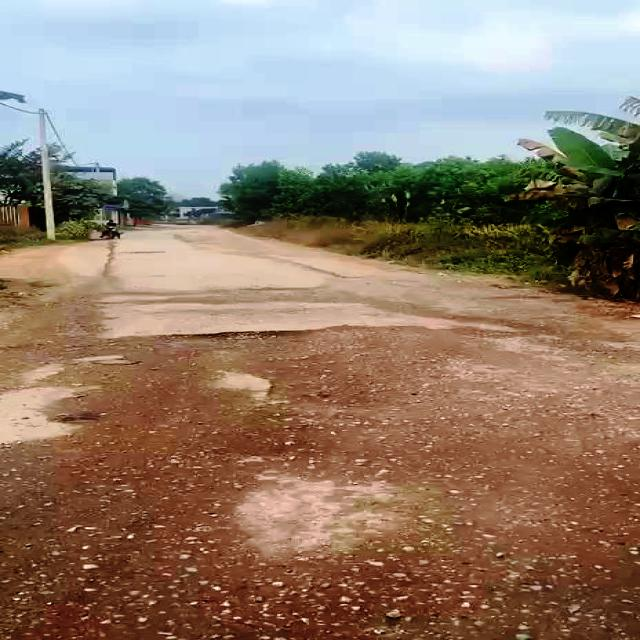pothole: (219, 361, 360, 402), (166, 328, 312, 354)
